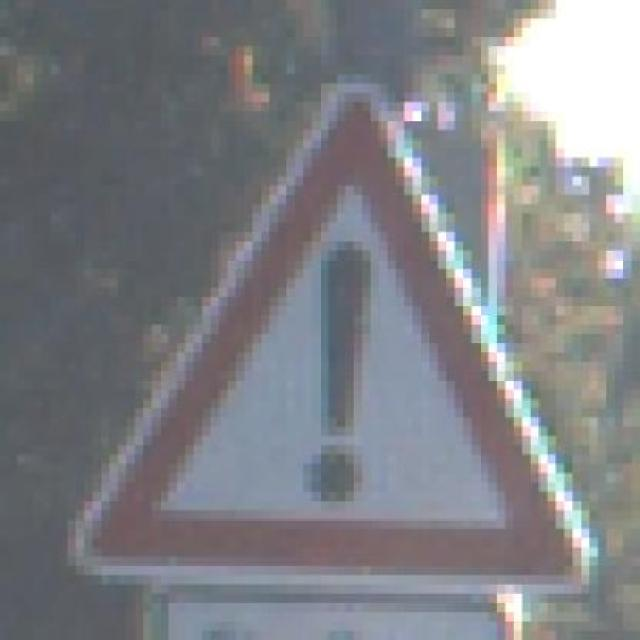Attention Please-: (51, 64, 623, 622)
